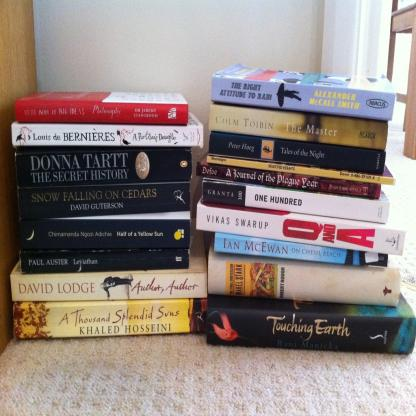book: (11, 213, 209, 300), (196, 194, 408, 260), (206, 238, 402, 307), (210, 58, 399, 124), (204, 296, 416, 348), (192, 149, 378, 200), (206, 104, 394, 154), (202, 176, 388, 223), (11, 108, 205, 148), (209, 134, 385, 178), (13, 299, 206, 337), (16, 180, 190, 222), (19, 211, 192, 250), (203, 150, 400, 184), (213, 231, 390, 265), (12, 90, 189, 123), (15, 150, 192, 182), (19, 249, 192, 268)
